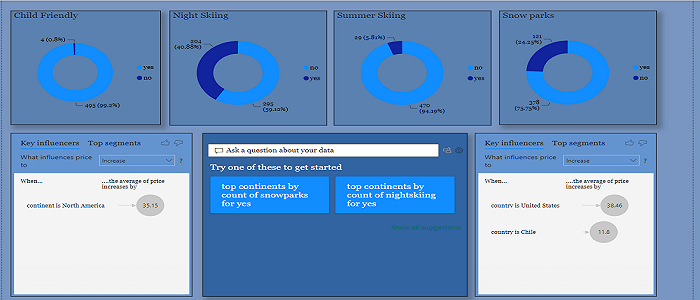

What the dashboard file says about the page in this screenshot:
{"tool":"powerbi","page":{"name":"Page 2","canvas":[1280,720],"ordinal":1},"visuals":[{"type":"donutChart","title":"Child Friendly","fields":{"Category":["resorts.child_friendly"],"Series":["resorts.child_friendly"],"Y":["CountNonNull(resorts.country)"]},"box":[15.5,24,278,273.8],"z":0},{"type":"donutChart","title":"Summer Skiing","fields":{"Y":["CountNonNull(resorts.country)"],"Category":["resorts.summer_skiing"],"Series":["resorts.summer_skiing"]},"box":[615.3,24,292.1,275.2],"z":1000},{"type":"donutChart","title":"Snow parks","fields":{"Y":["CountNonNull(resorts.country)"],"Category":["resorts.snowparks"],"Series":["resorts.snowparks"]},"box":[921.5,24,292.1,273.8],"z":2000},{"type":"donutChart","title":"Night Skiing","fields":{"Y":["CountNonNull(resorts.country)"],"Category":["resorts.nightskiing"],"Series":["resorts.nightskiing"]},"box":[310.5,24,292.1,275.2],"z":3000},{"type":"qnaVisual","box":[371.2,317.5,491.1,392.3],"z":4000},{"type":"keyDriversVisual","fields":{"Target":["resorts.price"],"ExplainBy":["resorts.continent"]},"box":[15.5,317.5,337,392],"z":5000},{"type":"keyDriversVisual","fields":{"Target":["resorts.price"],"ExplainBy":["resorts.country"]},"box":[876.4,317.5,337,392],"z":6000}]}

Visuals, with their boxes on the page's 1280x720 design canvas (x1, y1, x2, y2). These are canvas units, not pixel positions in the 700x300 screenshot, which may show the page scaled, cropped or inside an application window:
"Child Friendly" donutChart: <box>16,24,294,298</box>
"Summer Skiing" donutChart: <box>615,24,907,299</box>
"Snow parks" donutChart: <box>922,24,1214,298</box>
"Night Skiing" donutChart: <box>310,24,603,299</box>
qnaVisual: <box>371,318,862,710</box>
keyDriversVisual - resorts.price x resorts.continent: <box>16,318,352,710</box>
keyDriversVisual - resorts.price x resorts.country: <box>876,318,1213,710</box>
